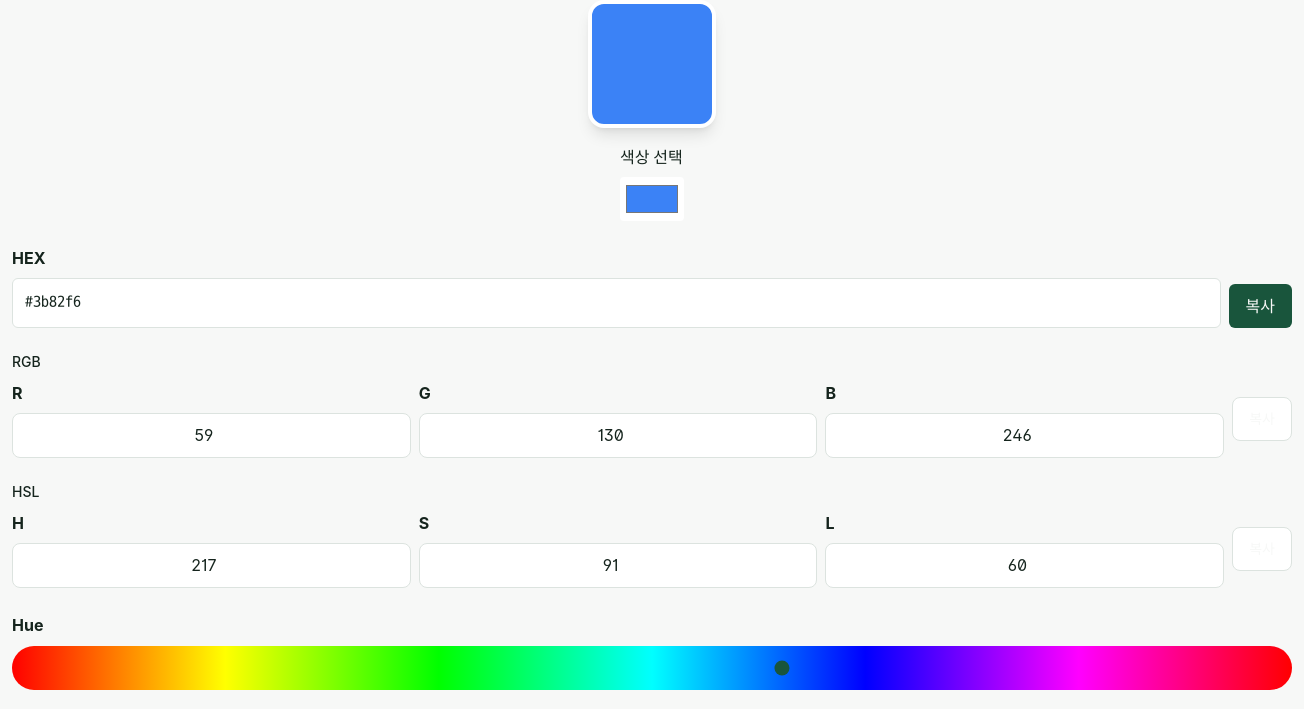
Test: ColorConverter › retains empty and non-Latin HEX drafts while clamping RGB boundaries
Step 1. Clear the field → [616, 303], box left=12, top=278, right=1220, bottom=328
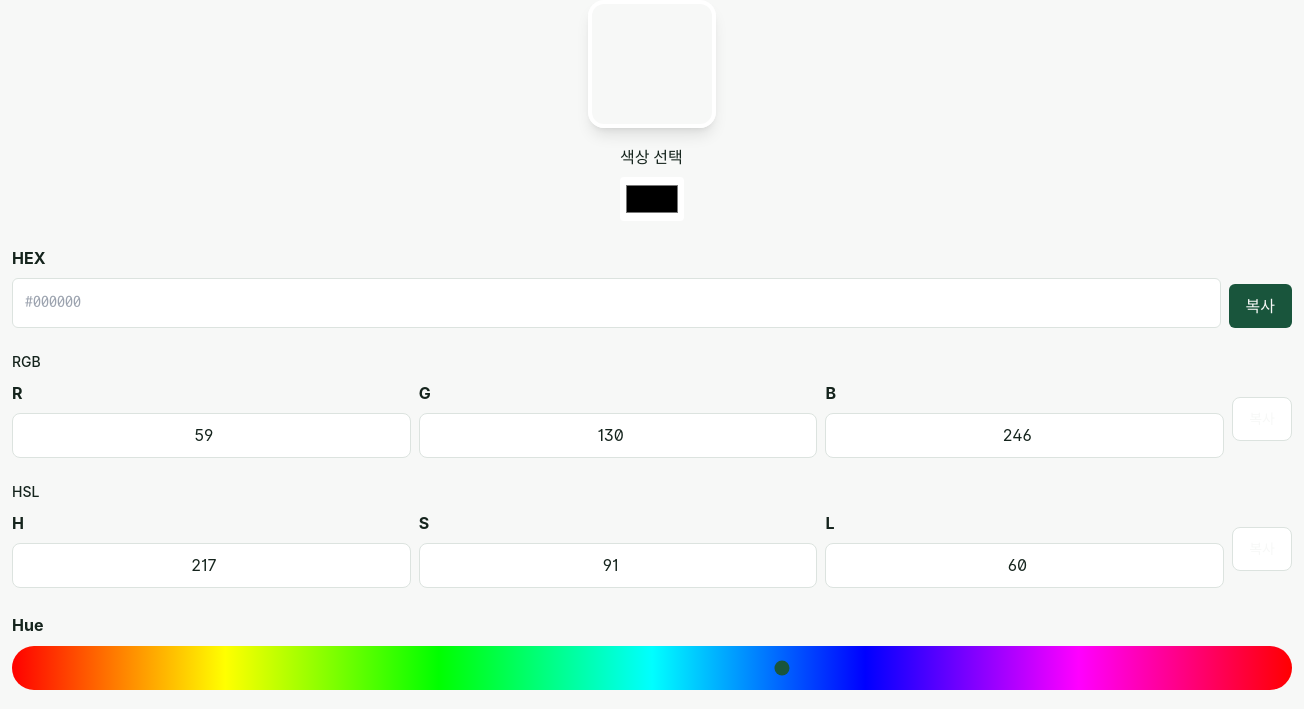
Step 2. Type "파랑" into the field → [616, 303], box left=12, top=278, right=1220, bottom=328
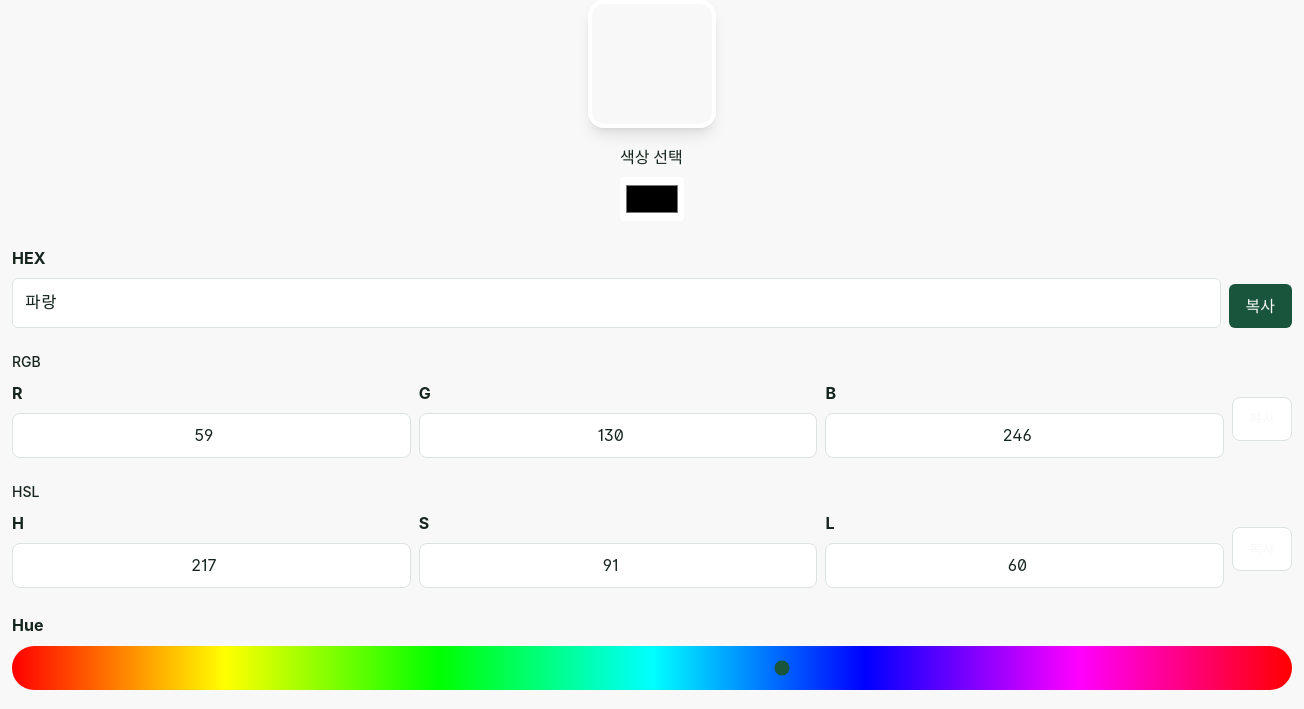
Step 3. Replace the text in the number field labelled "R" with "-1" → [211, 435], box left=12, top=413, right=411, bottom=458
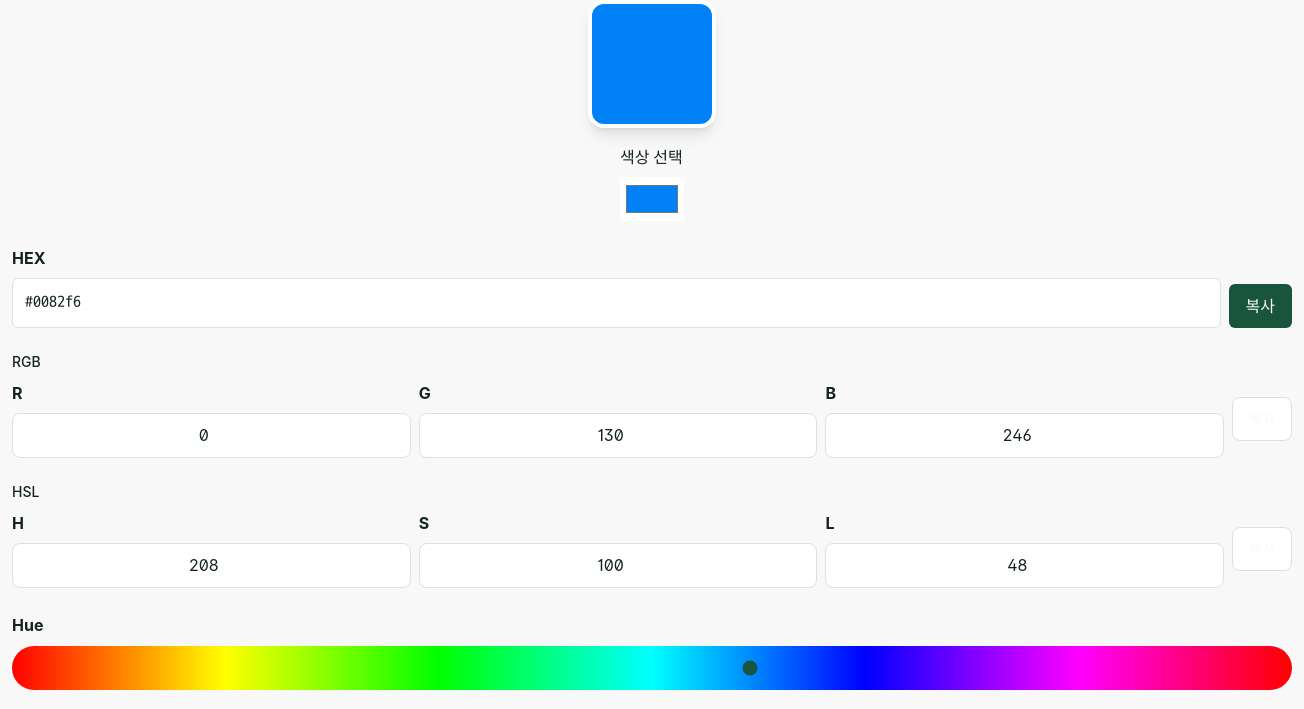
expect the number field labelled "R" holds "0": met
Step 4. Replace the text in the number field labelled "R" with "256" → [211, 435], box left=12, top=413, right=411, bottom=458
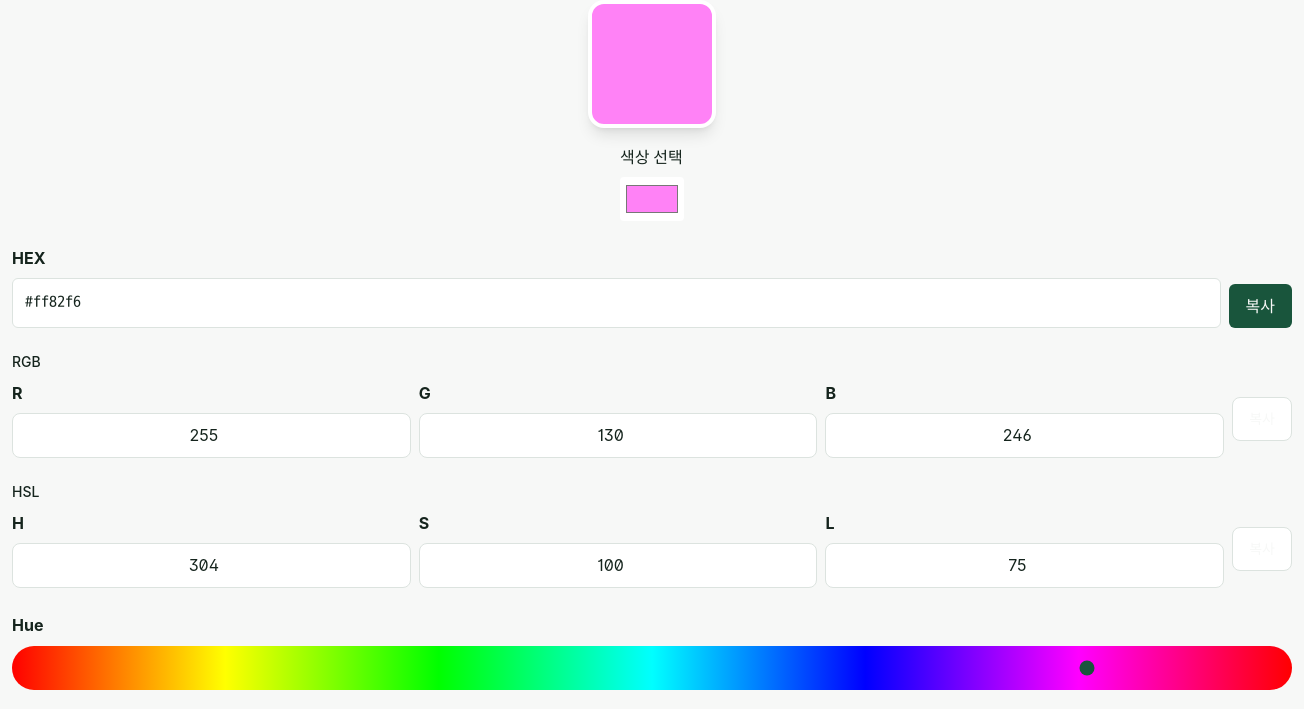
expect the number field labelled "R" holds "255": met, box left=12, top=413, right=411, bottom=458
